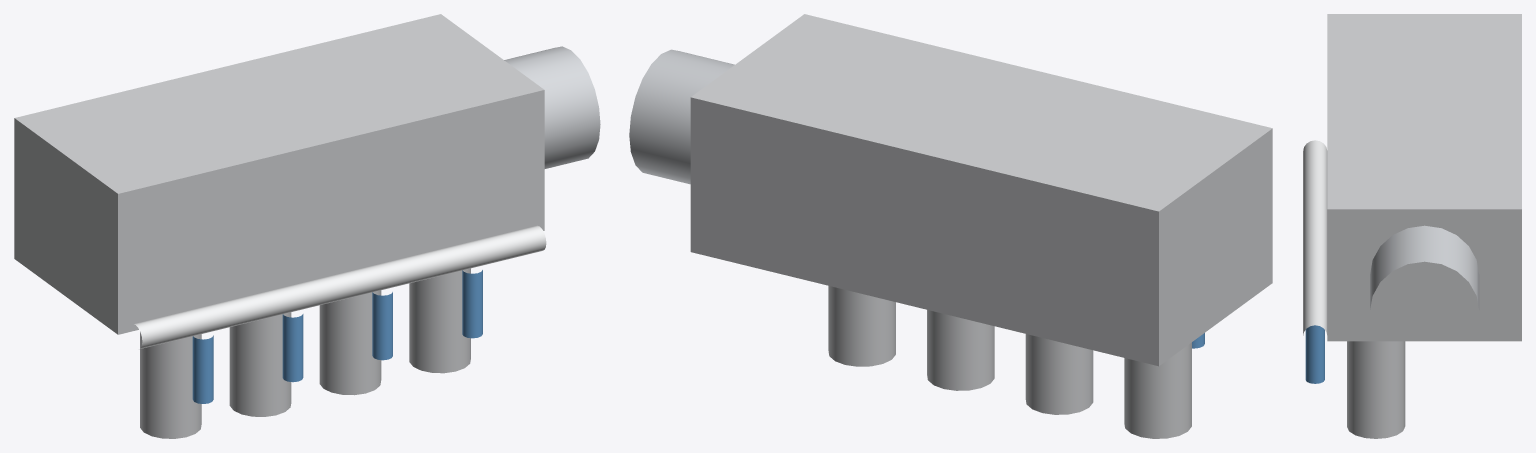
The model's file is audi_tt_2003_intake_manifold.glb.
3 renders of one model, left to right at view 1: azimuth 30°, elevation 25°; view 2: azimuth 150°, elevation 25°; view 3: azimuth 270°, elevation 25°, orthographic. The views are drawn at different scales.
Parts seen in each view (by area): view 1: node_intake_plenum, node_fuel_rail, node_throttle_body, node_intake_runner_2, node_intake_runner_1, node_intake_runner_3, node_intake_runner_0, node_fuel_injector_1, node_fuel_injector_0, node_fuel_injector_3, node_fuel_injector_2; view 2: node_intake_plenum, node_throttle_body, node_intake_runner_0, node_intake_runner_1, node_intake_runner_3, node_intake_runner_2; view 3: node_intake_plenum, node_intake_runner_3, node_fuel_rail, node_throttle_body, node_fuel_injector_3.
Part boxes in pixels (bbox=[...]): node_intake_plenum: bbox=[14, 14, 544, 334]; node_fuel_rail: bbox=[134, 225, 546, 349]; node_throttle_body: bbox=[504, 46, 600, 168]; node_intake_runner_2: bbox=[319, 290, 381, 395]; node_intake_runner_1: bbox=[229, 312, 291, 416]; node_intake_runner_3: bbox=[409, 268, 470, 373]; node_intake_runner_0: bbox=[140, 331, 201, 438]; node_fuel_injector_1: bbox=[282, 314, 303, 382]; node_fuel_injector_0: bbox=[192, 335, 213, 403]; node_fuel_injector_3: bbox=[462, 270, 482, 338]; node_fuel_injector_2: bbox=[372, 292, 392, 360]; node_intake_plenum: bbox=[690, 14, 1272, 366]; node_throttle_body: bbox=[629, 49, 734, 184]; node_intake_runner_0: bbox=[1124, 342, 1191, 438]; node_intake_runner_1: bbox=[1025, 334, 1093, 414]; node_intake_runner_3: bbox=[828, 285, 895, 366]; node_intake_runner_2: bbox=[927, 310, 994, 390]; node_intake_plenum: bbox=[1327, 14, 1521, 341]; node_intake_runner_3: bbox=[1347, 341, 1405, 438]; node_fuel_rail: bbox=[1303, 140, 1327, 335]; node_throttle_body: bbox=[1370, 225, 1479, 309]; node_fuel_injector_3: bbox=[1305, 325, 1324, 383].
Size of the model in its own units: 0.45 by 0.23 by 0.18.
